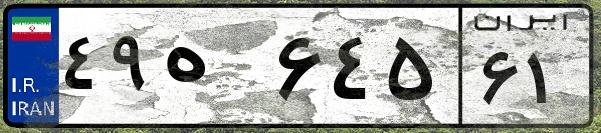1: (525, 38, 570, 115)
4: (330, 28, 385, 110), (57, 26, 110, 100)
5: (385, 28, 445, 110)
6: (270, 28, 330, 110), (475, 38, 525, 113)
9: (110, 28, 158, 98)
ه: (158, 20, 270, 120)
